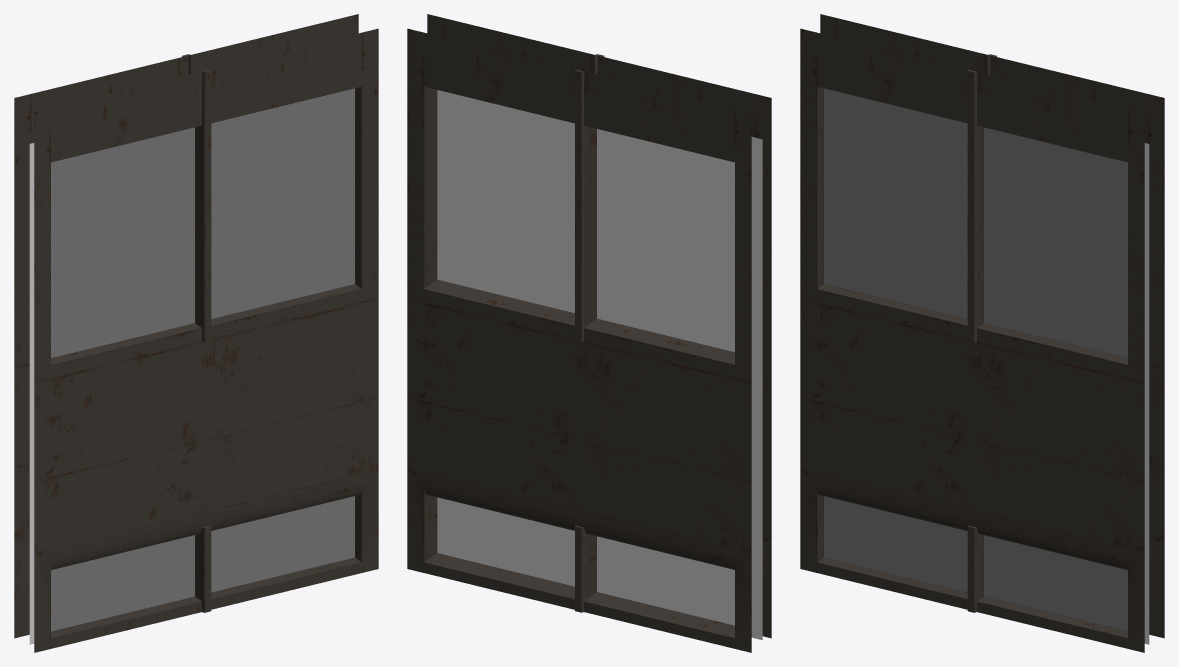
Rendered from Metal_Window_Half.gltf.
3 renders of one model, left to right at view 1: azimuth 30°, elevation 25°; view 2: azimuth 150°, elevation 25°; view 3: azimuth 330°, elevation 25°, orthographic.
Visible parts, largest first — view 1: Metal_Window_Half; view 2: Metal_Window_Half; view 3: Metal_Window_Half.
Part boxes in pixels (<box>): Metal_Window_Half: <box>14,14,378,652</box>; Metal_Window_Half: <box>407,14,771,652</box>; Metal_Window_Half: <box>800,14,1164,652</box>.
Size of the model in its own units: 2 by 3 by 0.2286.
Materials: 3 (1 with a texture image).
